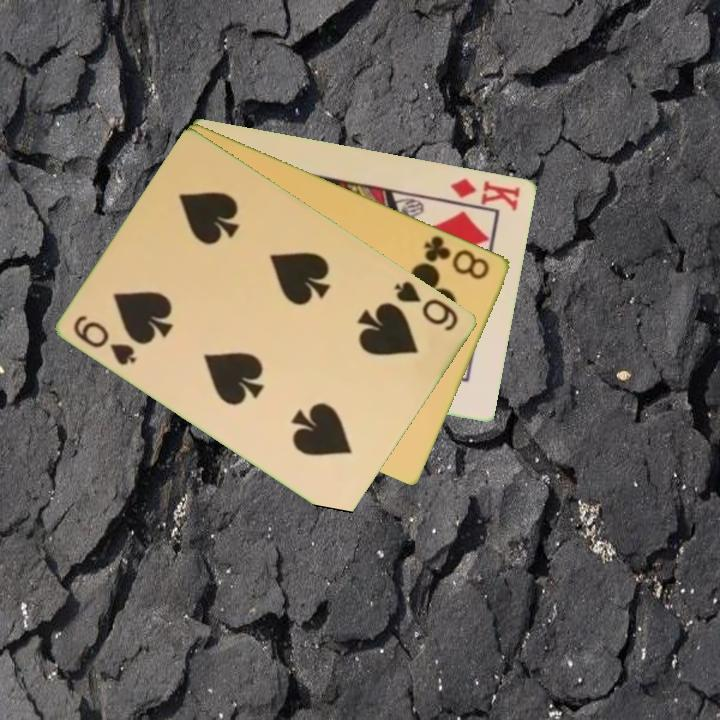6s: (70, 311, 140, 369), (391, 277, 462, 334)
8c: (421, 231, 493, 283)
Kd: (447, 174, 524, 214)
